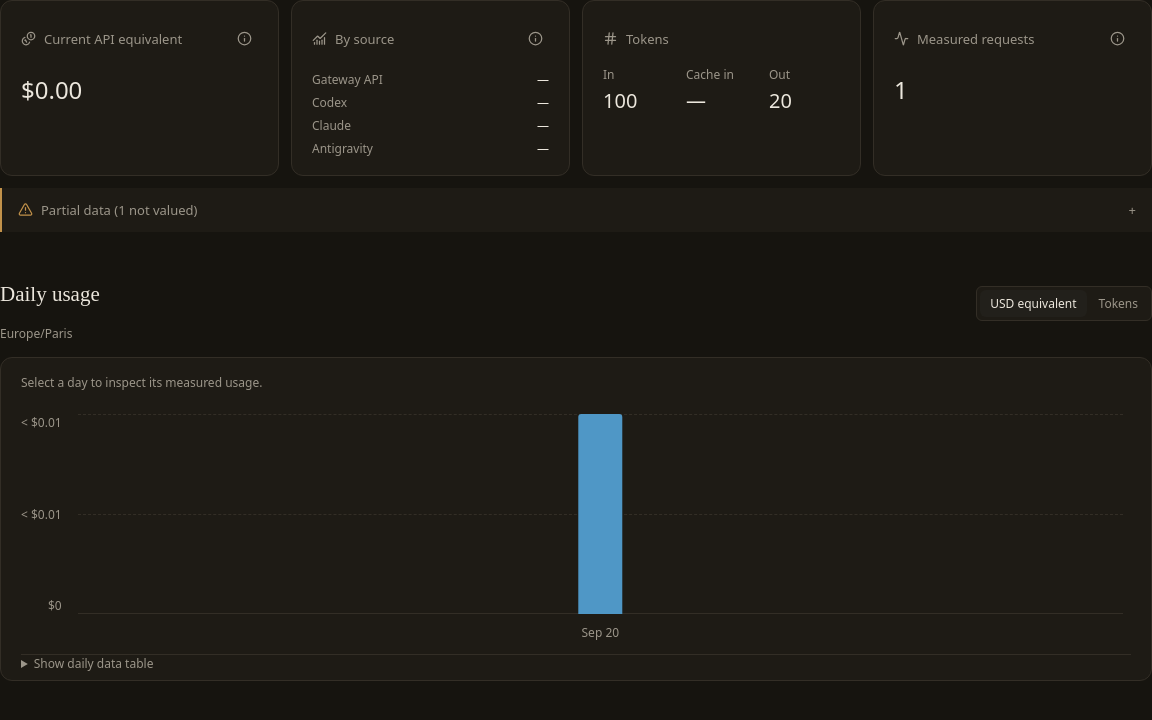
keeps pricing explanations behind an accessible info button
Expected: the heading "Current API equivalent" is shown, [21, 30, 182, 48]
Expected: the text "$0.00" is shown, [21, 73, 82, 106]
Click the button named "About this amount". click: [244, 39]
box: [230, 25, 258, 53]
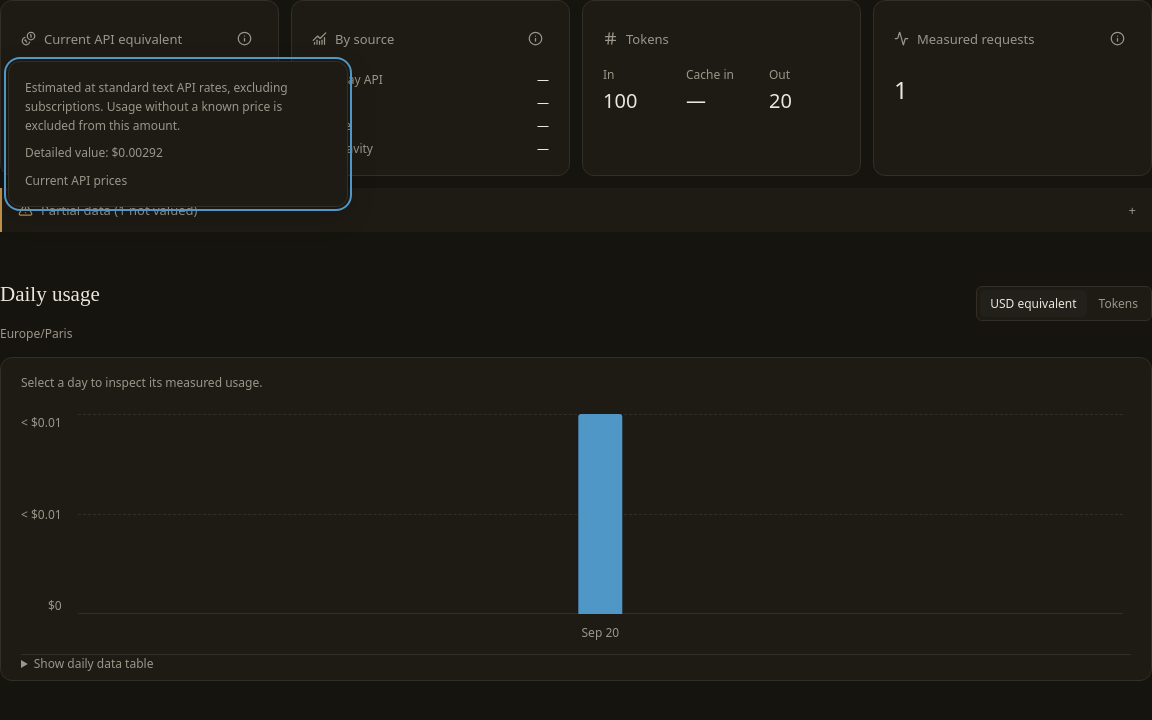
Expected: the dialog named "About this amount" is shown, [8, 61, 348, 207]
Expected: the text "Detailed value: $0.00292" is shown, [25, 144, 163, 161]
Expected: the text "excluding subscriptions" is shown, [25, 79, 288, 134]
Press Escape
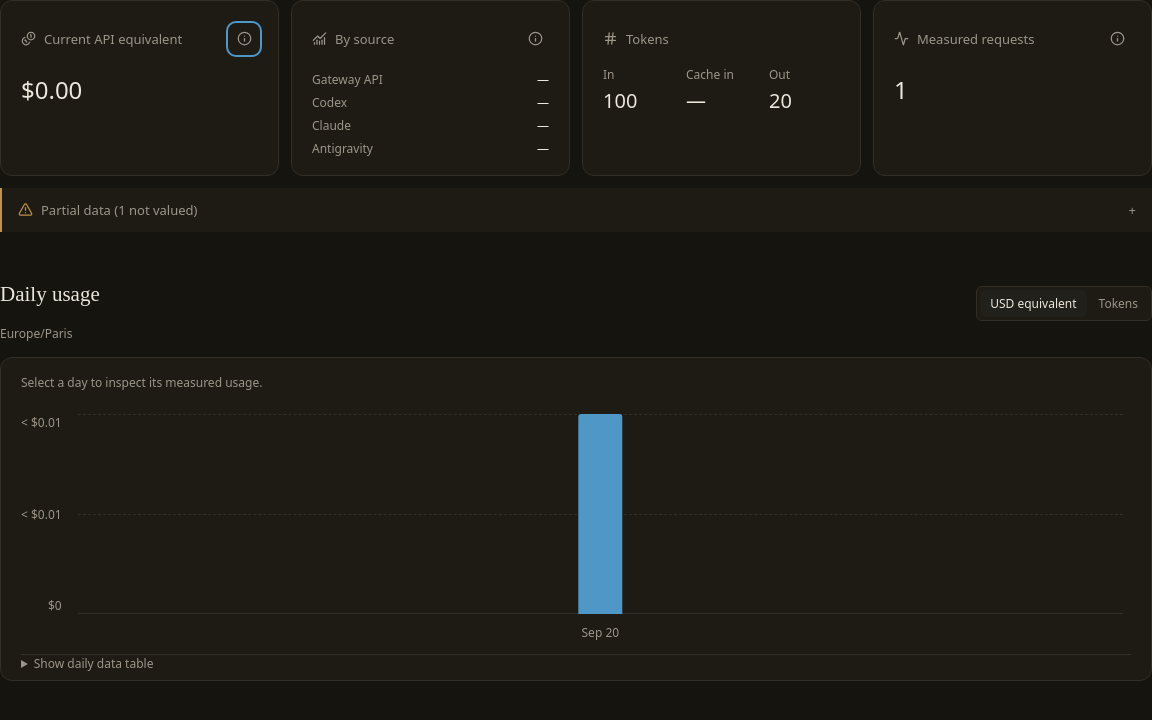
Expected: the dialog is gone
